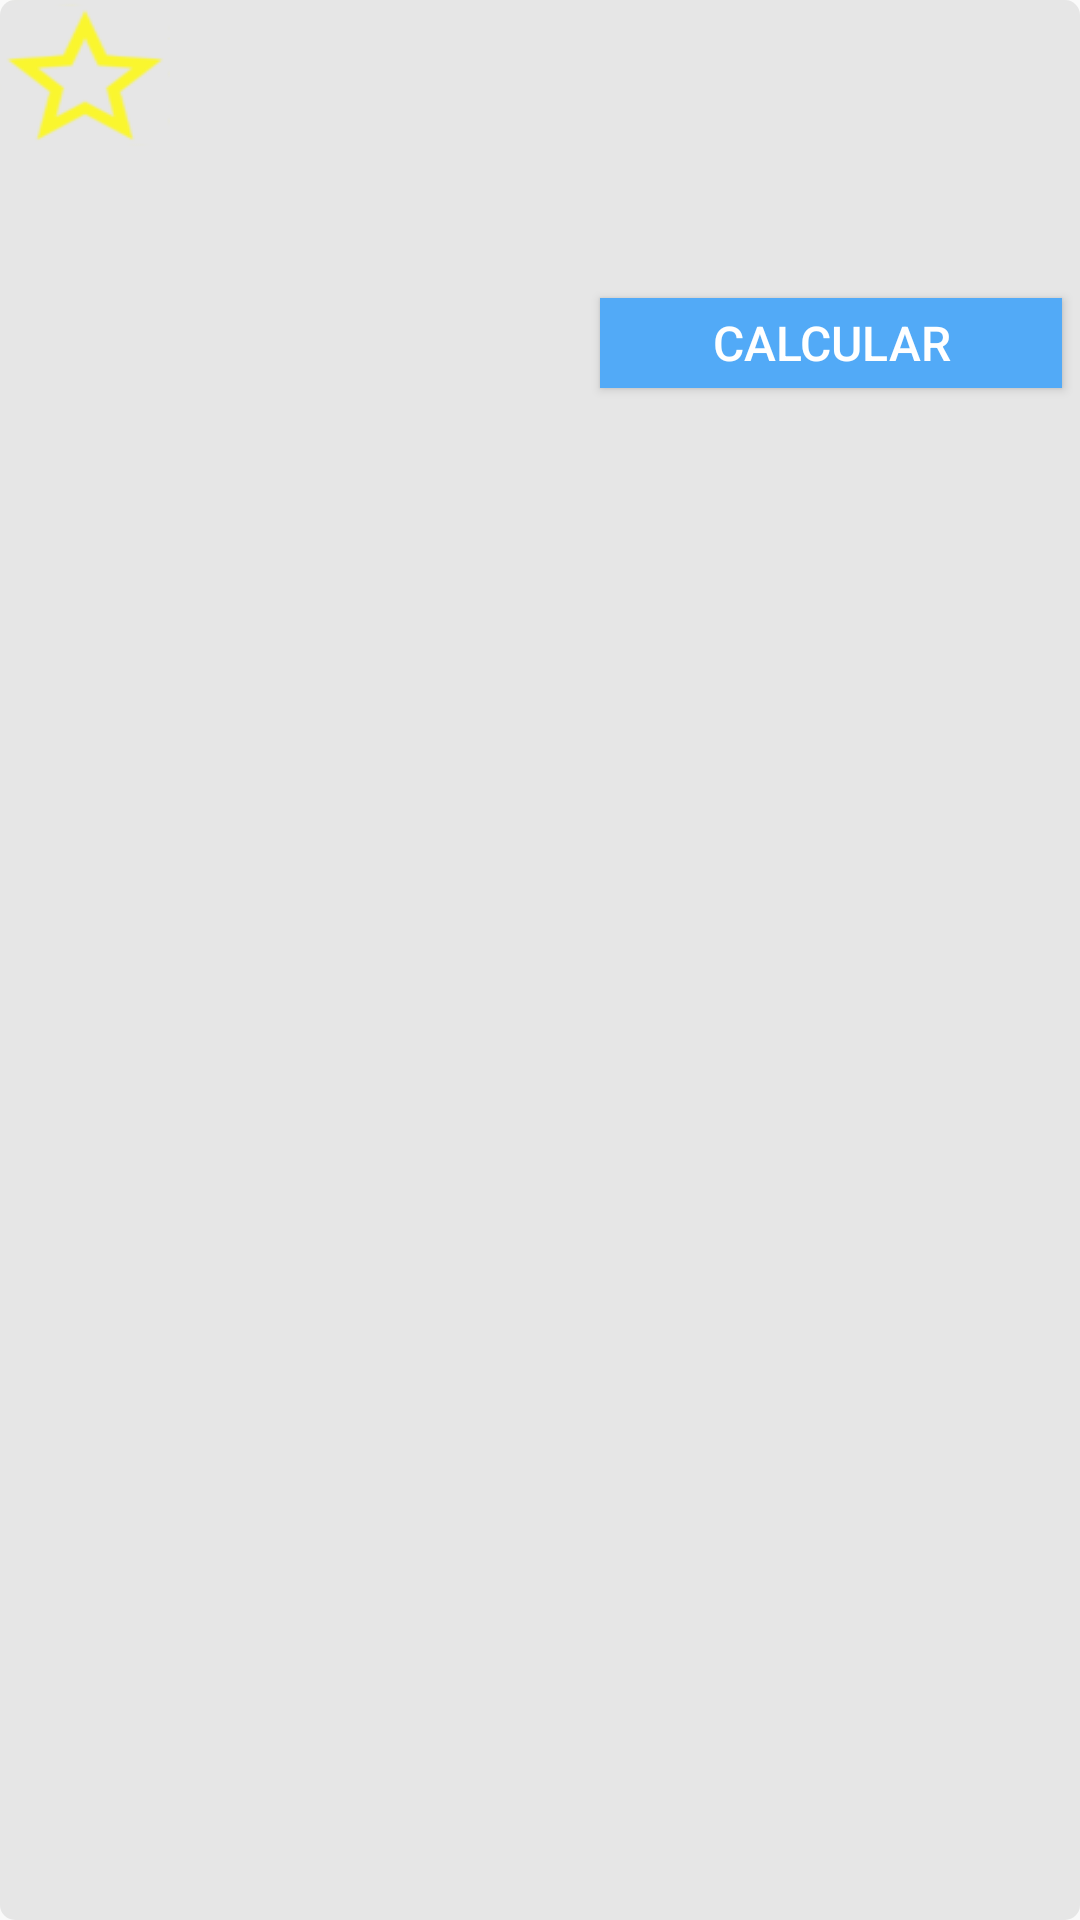

Where icons sit on this 1080x1920 app screen, as box=[x1, y1, x2, y2]:
star border: box=[8, 11, 162, 140]
